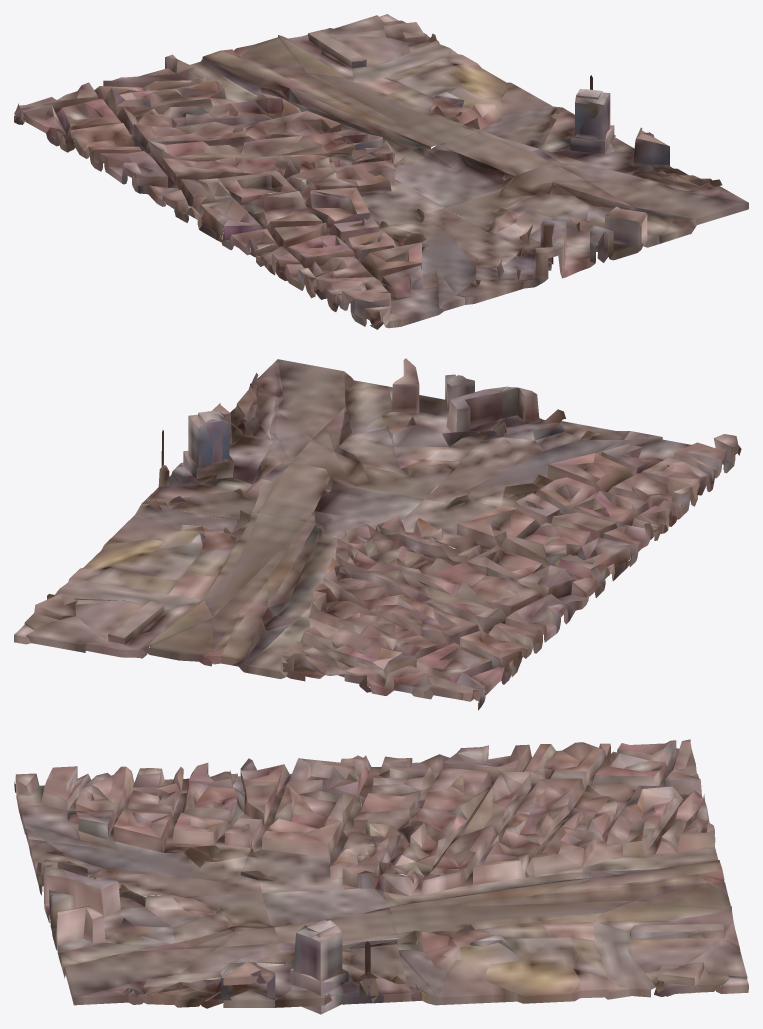
3 views of the same model, one above another, from view 1: azimuth 30°, elevation 25°; view 2: azimuth 150°, elevation 25°; view 3: azimuth 270°, elevation 25° (orthographic). The views are drawn at different scales.
Visible parts, largest first — view 1: Mesh_0; view 2: Mesh_0; view 3: Mesh_0.
Boxes of the visible parts, left/top/right/bottom form: Mesh_0: left=14, top=14, right=748, bottom=329; Mesh_0: left=14, top=358, right=741, bottom=710; Mesh_0: left=14, top=739, right=748, bottom=1014.
Size of the model in its own units: 533 by 76.78 by 660.
1 material, 1 textured.
